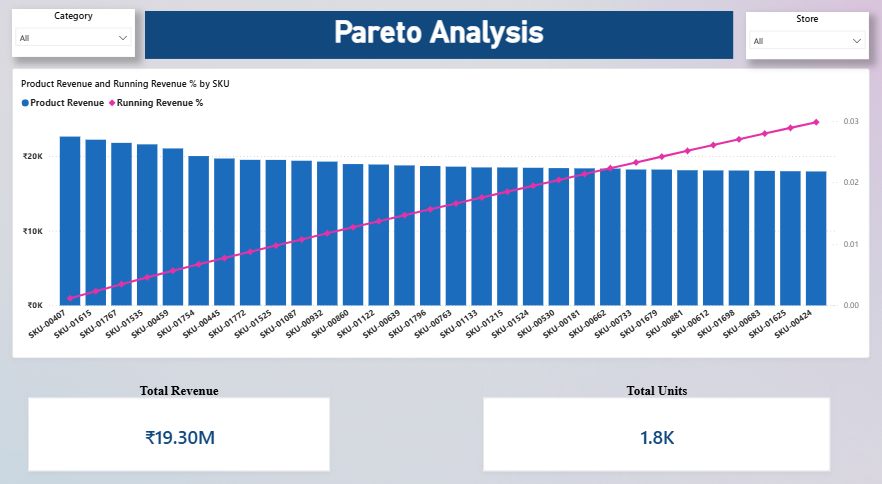

The dashboard page shown, as its layout file describes it:
{"tool":"powerbi","page":{"name":"Pareto Analysis (80/20 Rule)","canvas":[1280,720],"ordinal":1},"visuals":[{"type":"lineClusteredColumnComboChart","fields":{"Category":["inventory_sales_cleaned.SKU"],"Y":["inventory_sales_cleaned.Product Revenue"],"Y2":["inventory_sales_cleaned.Running Revenue %"]},"box":[21.8,102.5,1234.6,418.3],"z":0},{"type":"cardVisual","title":"Total Revenue","fields":{"Data":["inventory_sales_cleaned.Total Revenue"]},"box":[45.4,556,435.1,127.7],"z":2},{"type":"cardVisual","title":"Total Units","fields":{"Data":["Count(inventory_sales_cleaned.SKU)"]},"box":[700.5,556,500.6,127.7],"z":3},{"type":"actionButton","box":[44.6,31.7,99.4,40.3],"z":5},{"type":"slicer","title":"Category","fields":{"Values":["inventory_sales_cleaned.Category"]},"box":[21.6,17.3,177.1,69.1],"z":6},{"type":"textbox","box":[213.3,20.2,846.6,68.9],"z":7},{"type":"slicer","title":"Store","fields":{"Values":["inventory_sales_cleaned.Store"]},"box":[1078.6,21.6,177.1,67.7],"z":8}]}

Visuals, with their boxes in screenshot pixels (x1, y1, x2, y2), scaled from the page's 1280x720 canvas onto the 882x484 screenshot:
lineClusteredColumnComboChart - inventory_sales_cleaned.SKU x inventory_sales_cleaned.Product Revenue: box=[15, 69, 866, 350]
"Total Revenue" cardVisual: box=[31, 374, 331, 460]
"Total Units" cardVisual: box=[483, 374, 828, 460]
actionButton: box=[31, 21, 99, 48]
"Category" slicer: box=[15, 12, 137, 58]
textbox: box=[147, 14, 730, 60]
"Store" slicer: box=[743, 15, 865, 60]
